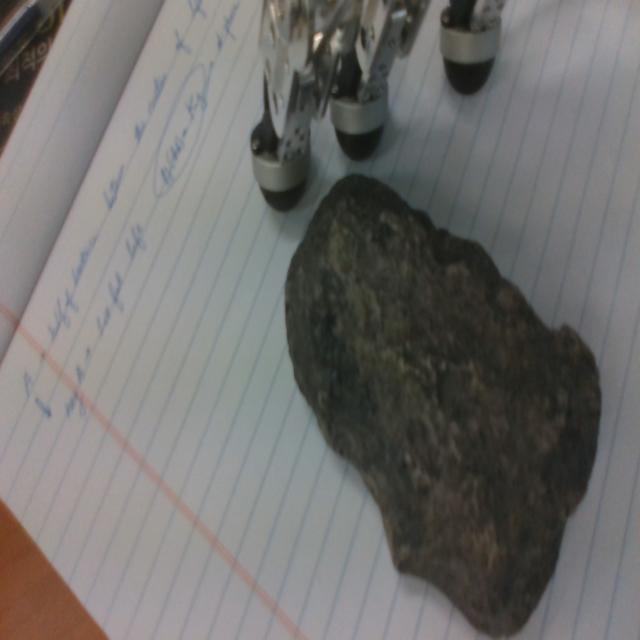stone: (285, 174, 601, 637)
